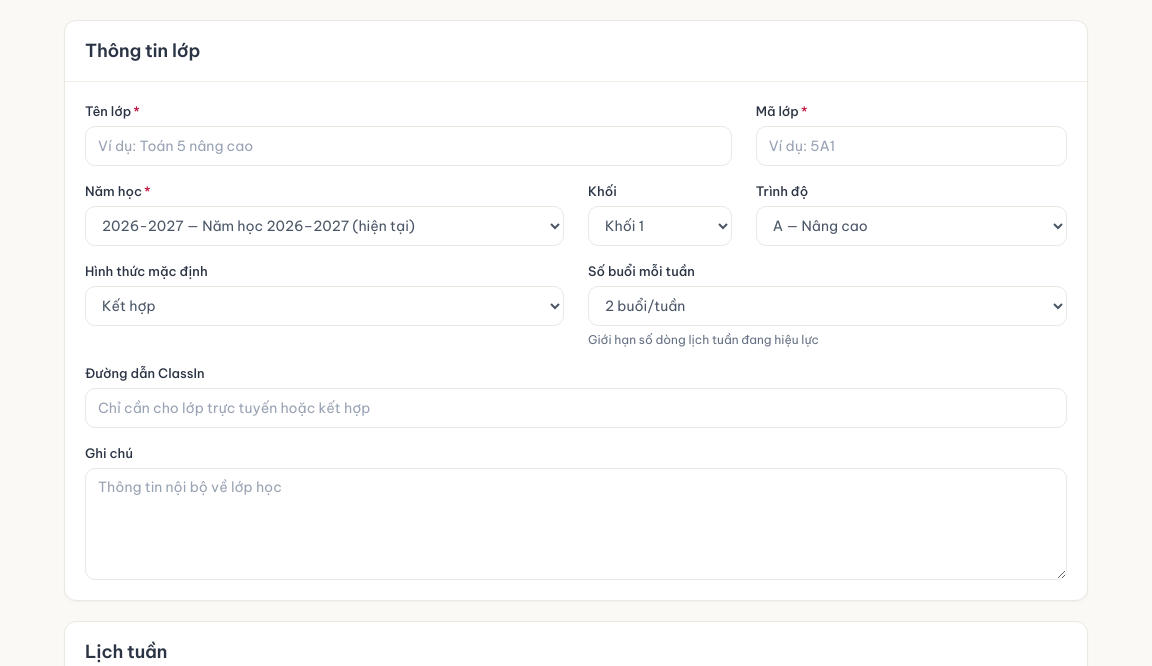
ClassFormPage — create › puts server field errors under their control and the message by the buttons, keeping the values
The image size is (1152, 666).
Type "Toán 6B" into the field labelled "Tên lớp" at (408, 146), box [85,126,732,166]
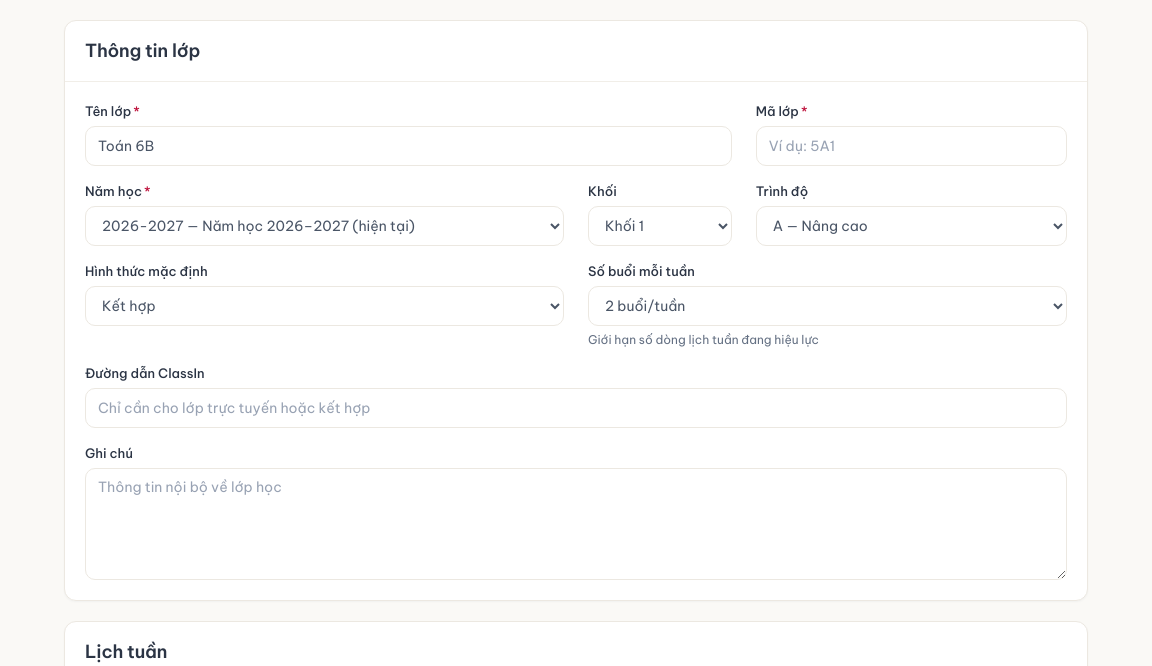
Type "6B 1" into the field labelled "Mã lớp" at (911, 146), box [756,126,1067,166]
(page scrolled)
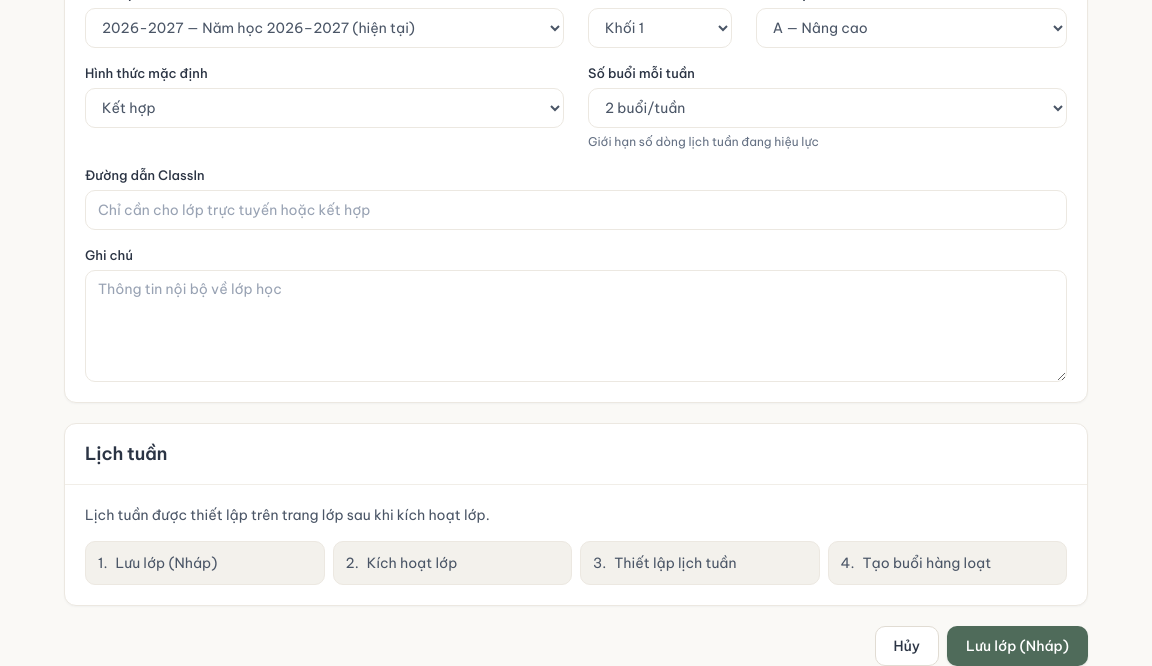
Click the button "Lưu lớp (Nháp)" at (1018, 646), box [947,626,1088,665]
(page scrolled)
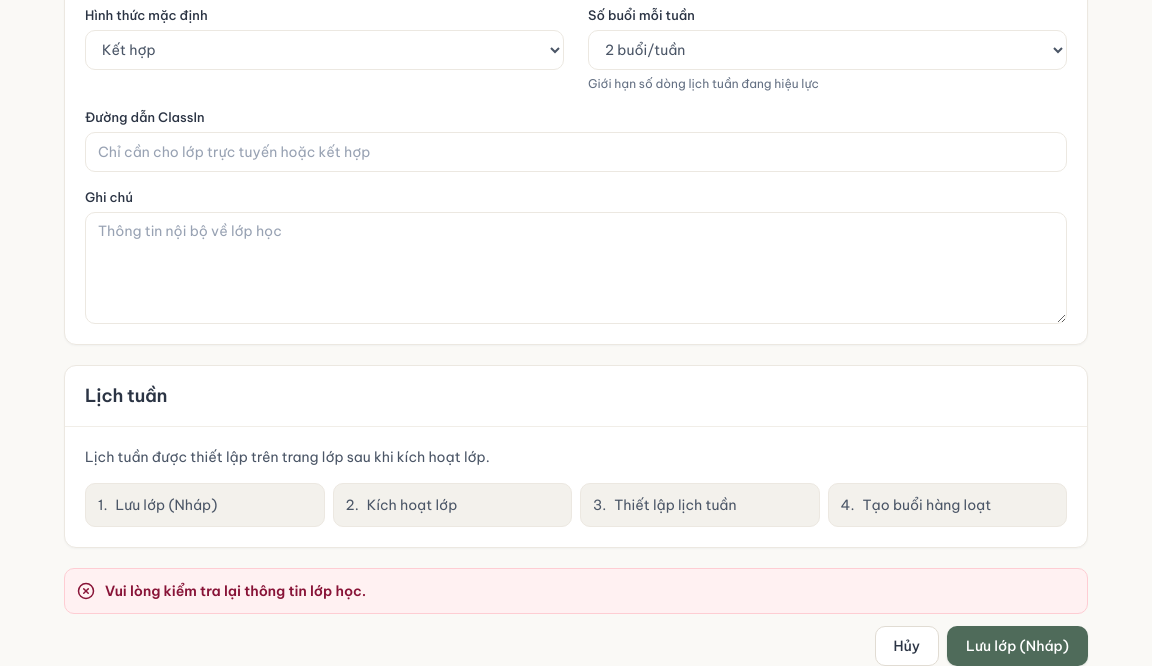
Now the message "Vui lòng kiểm tra lại thông tin lớp học." is shown, box [64,568,1088,614]
